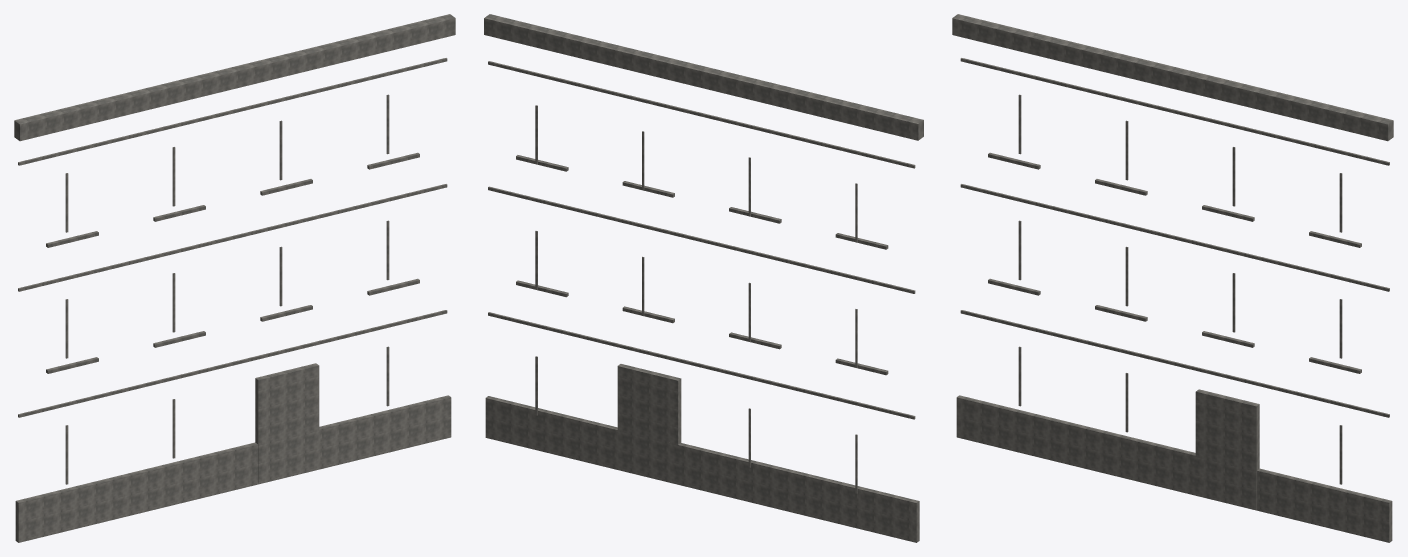
Rendered from Street_BlockL4_Trim.obj.
3 renders of one model, left to right at view 1: azimuth 30°, elevation 25°; view 2: azimuth 150°, elevation 25°; view 3: azimuth 330°, elevation 25°, orthographic.
Size of the model in its own units: 11.4 by 10.52 by 0.485.
1 material, 1 textured.
